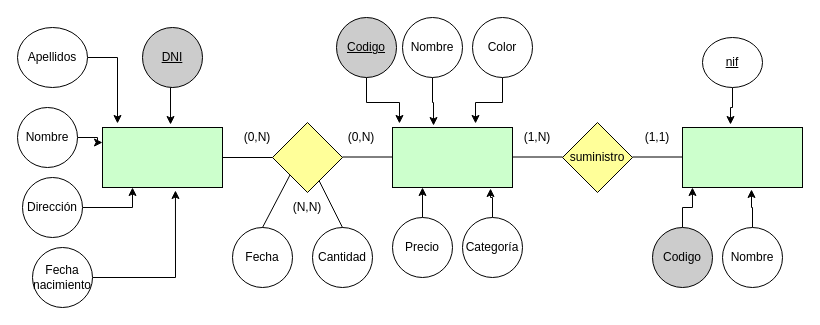
This 820x325 diagram has some shape labels left out. The centre of each missing label's shape, as x and y in pixels:
"Cliente" belongs at (162,157).
"Compra" belongs at (307,157).
"Productos" belongs at (452,157).
"proveedores" belongs at (742,157).
